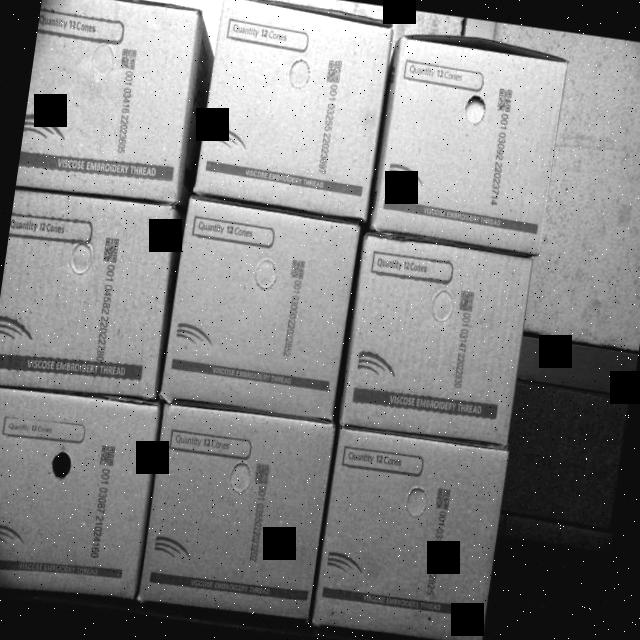box: (140, 402, 338, 626), (195, 0, 396, 218), (372, 34, 570, 254), (162, 206, 360, 420), (315, 427, 512, 640), (340, 237, 533, 443), (0, 187, 180, 402), (16, 0, 204, 203), (0, 382, 160, 609), (0, 193, 176, 399)
